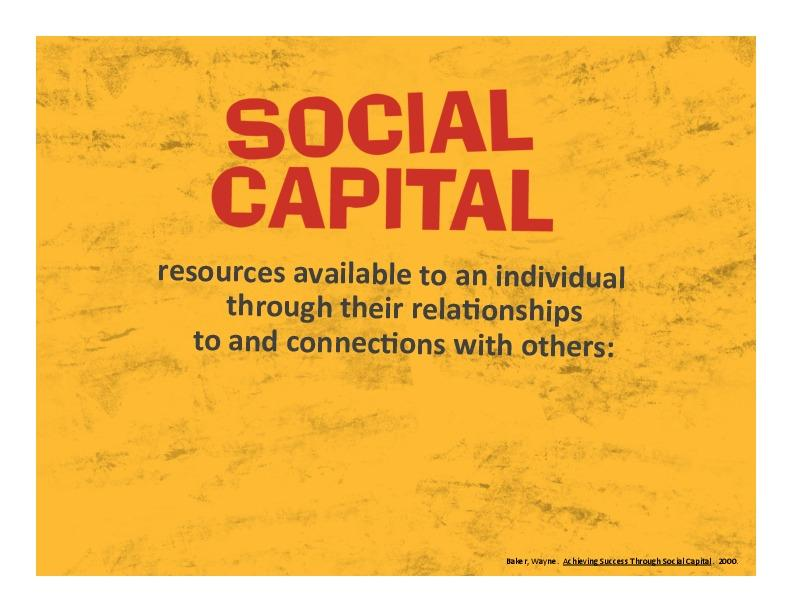title: (203, 81, 577, 243)
